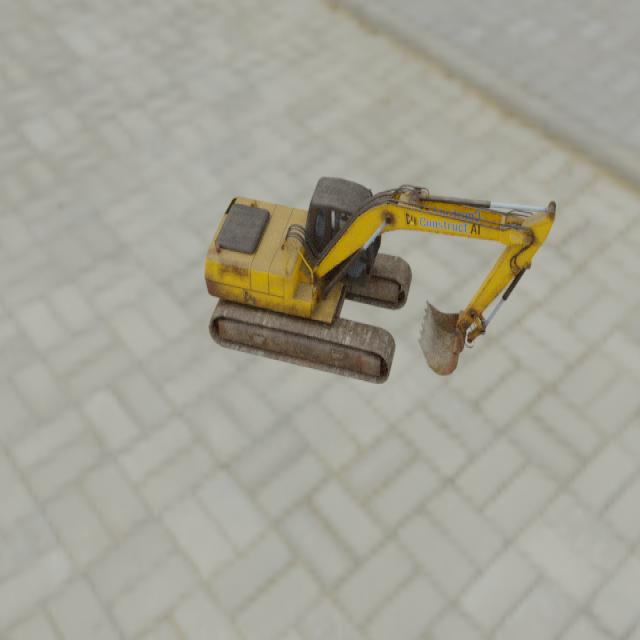excavator: (203, 176, 556, 384)
